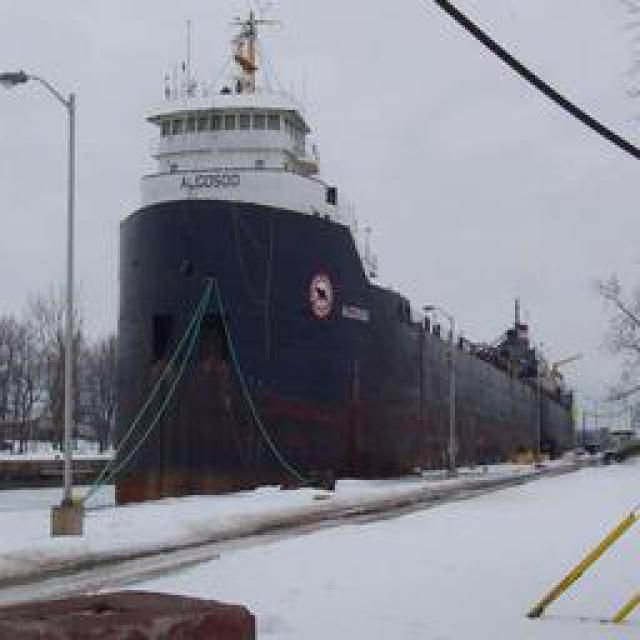Ship: (101, 4, 596, 511)
